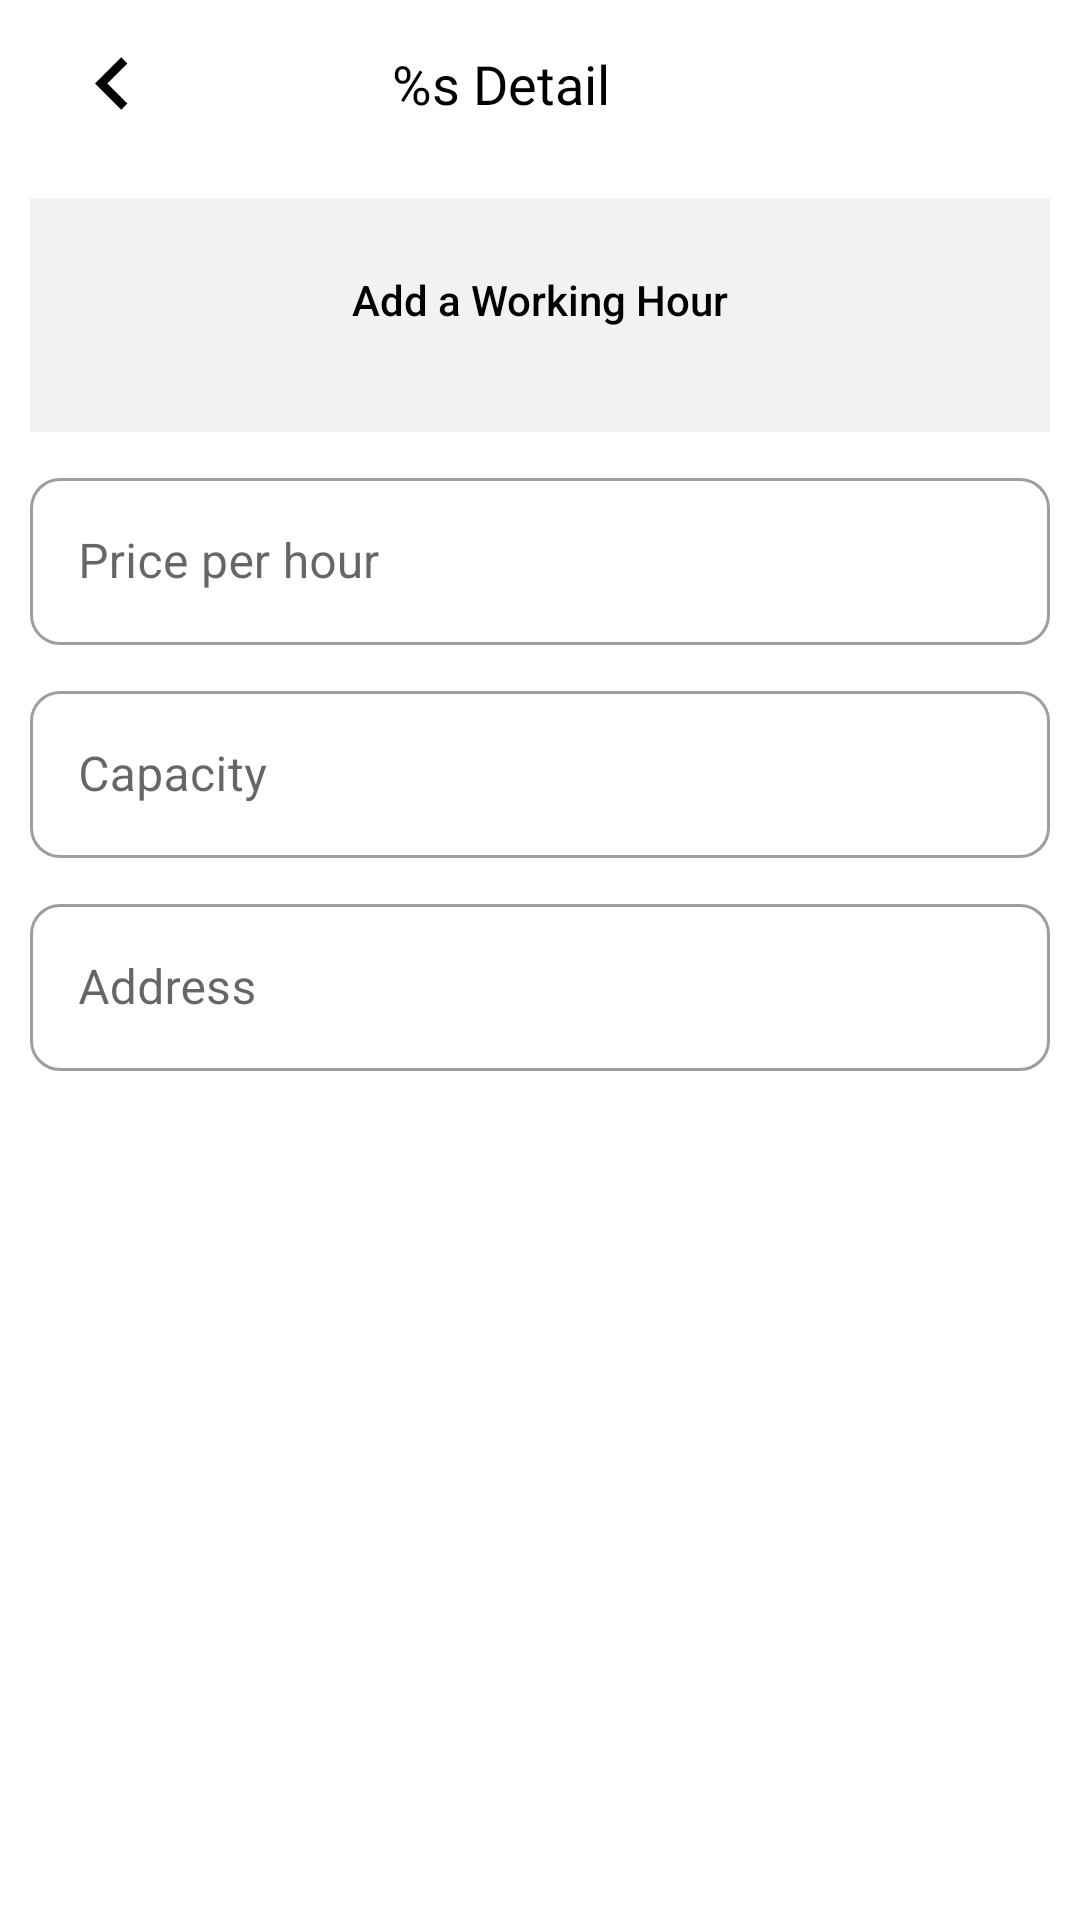

Point at icon controls on the screen. Image size 1080 x 1920, points as (x=x, y=y).
back: (x=111, y=83)
